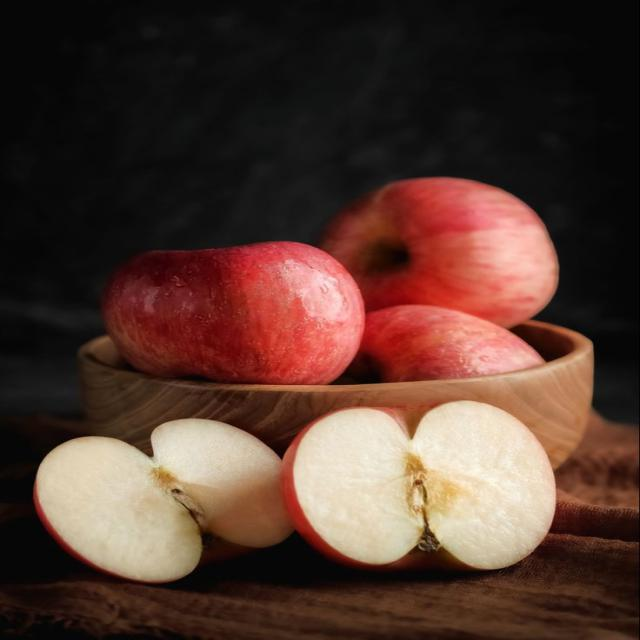apple: (282, 401, 555, 569), (34, 419, 293, 582), (102, 242, 364, 384), (320, 178, 558, 326), (352, 305, 544, 382)
